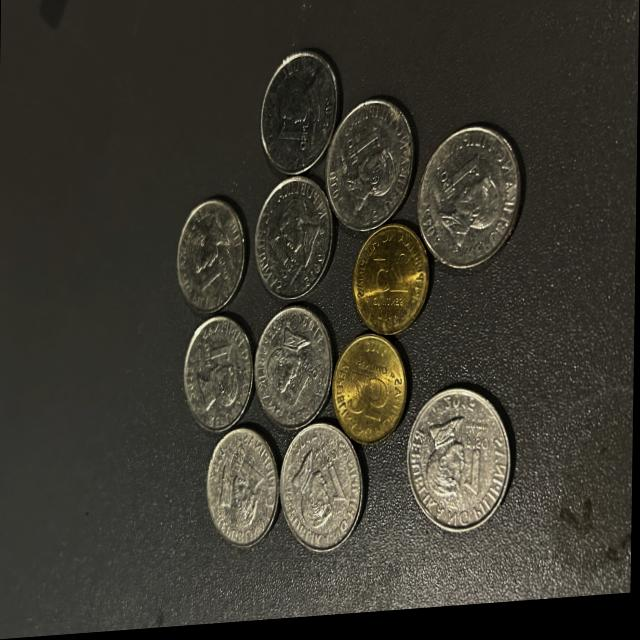1_Old_Front: (415, 142, 511, 278), (408, 419, 503, 528), (263, 69, 340, 190), (255, 311, 328, 427), (211, 434, 280, 550), (174, 189, 239, 309), (285, 436, 355, 542), (184, 322, 251, 427), (261, 199, 330, 294), (341, 118, 406, 217)
25Cent_Old_Front: (336, 344, 409, 448), (364, 247, 417, 334)
